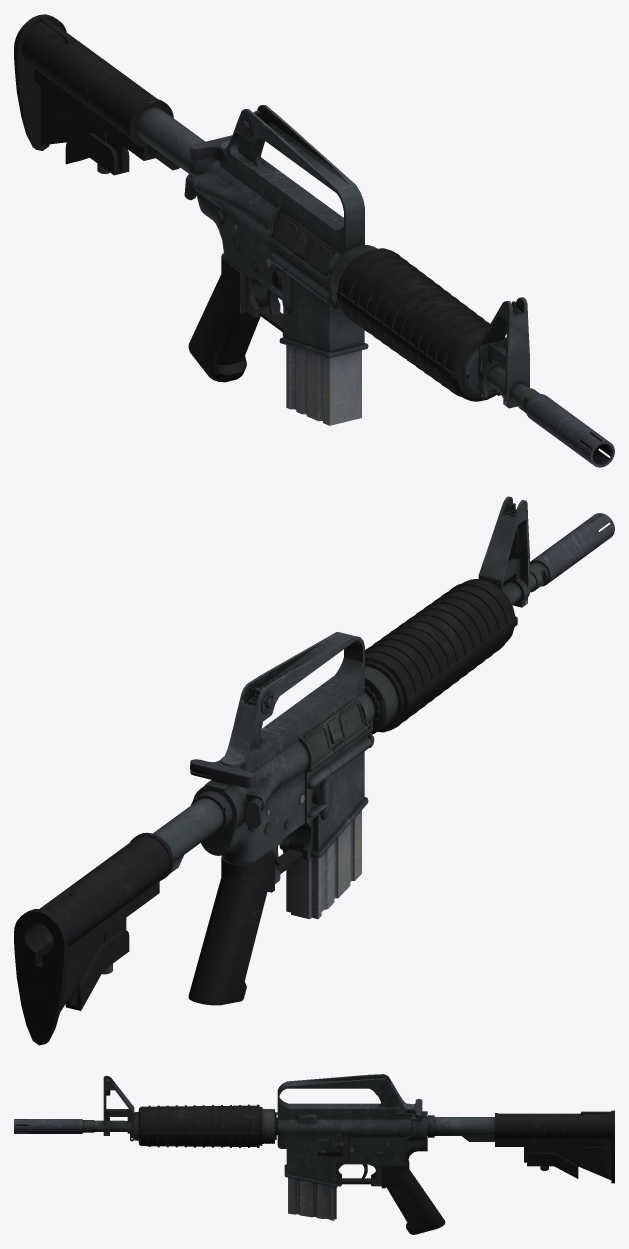
3 renders of one model, top to bottom at view 1: azimuth 30°, elevation 25°; view 2: azimuth 150°, elevation 25°; view 3: azimuth 270°, elevation 25°, orthographic. The views are drawn at different scales.
Visible parts, largest first — view 1: Body___DEFAULT; view 2: Body___DEFAULT; view 3: Body___DEFAULT.
Part boxes in pixels (bbox=[...]): Body___DEFAULT: bbox=[14, 14, 614, 467]; Body___DEFAULT: bbox=[14, 496, 614, 1045]; Body___DEFAULT: bbox=[14, 1074, 614, 1234].
Size of the model in its own units: 0.0578 by 0.2172 by 0.76.
1 material, 1 textured.
